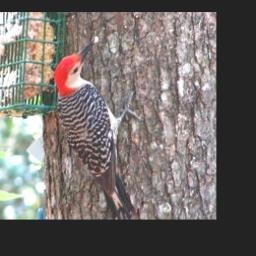Woodpecker: (55, 36, 146, 218)
